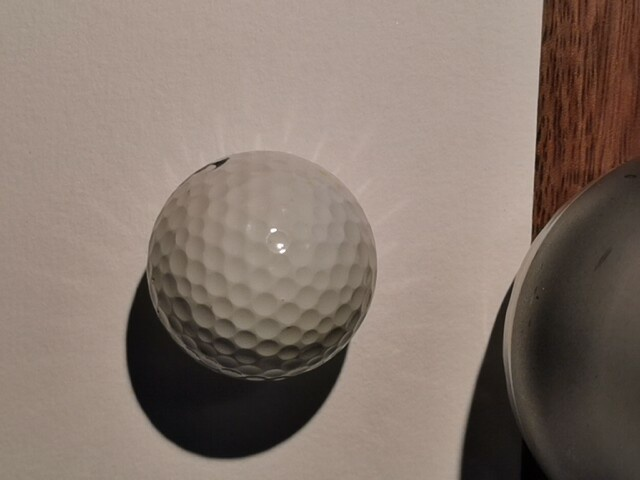Ball: (147, 151, 378, 383)
